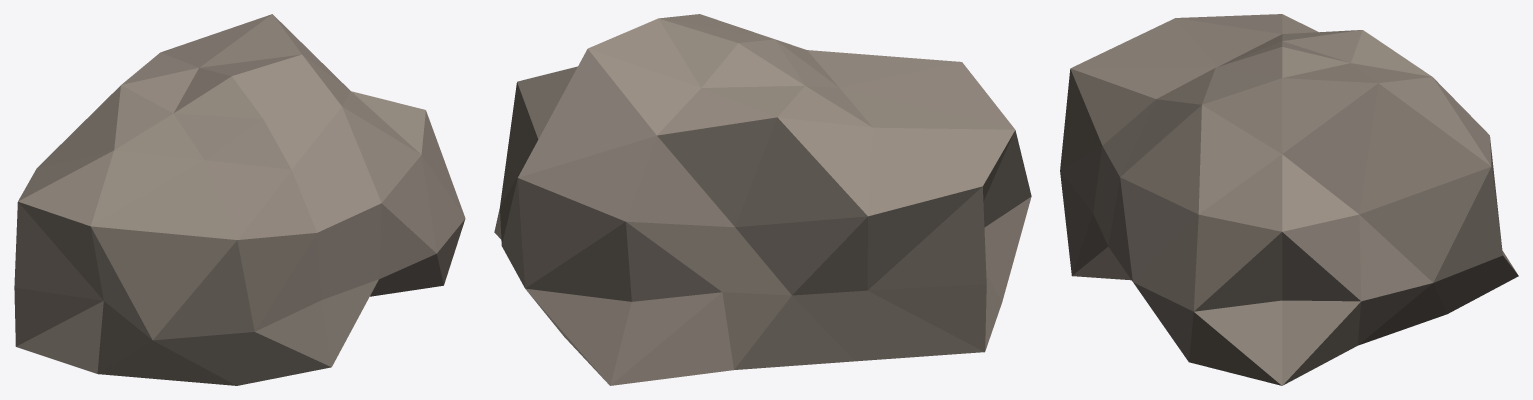
Rendered from rock_c.glb.
3 views of the same model, side by side, from view 1: azimuth 30°, elevation 25°; view 2: azimuth 150°, elevation 25°; view 3: azimuth 270°, elevation 25° (orthographic). The views are drawn at different scales.
Parts seen in each view (by area): view 1: rock_c; view 2: rock_c; view 3: rock_c.
Part boxes in pixels (left/top/right/bottom): rock_c: left=14, top=14, right=465, bottom=385; rock_c: left=494, top=14, right=1031, bottom=385; rock_c: left=1060, top=14, right=1518, bottom=385.
Bounding box in the file's own units: 2.91 × 1.45 × 2.55.
